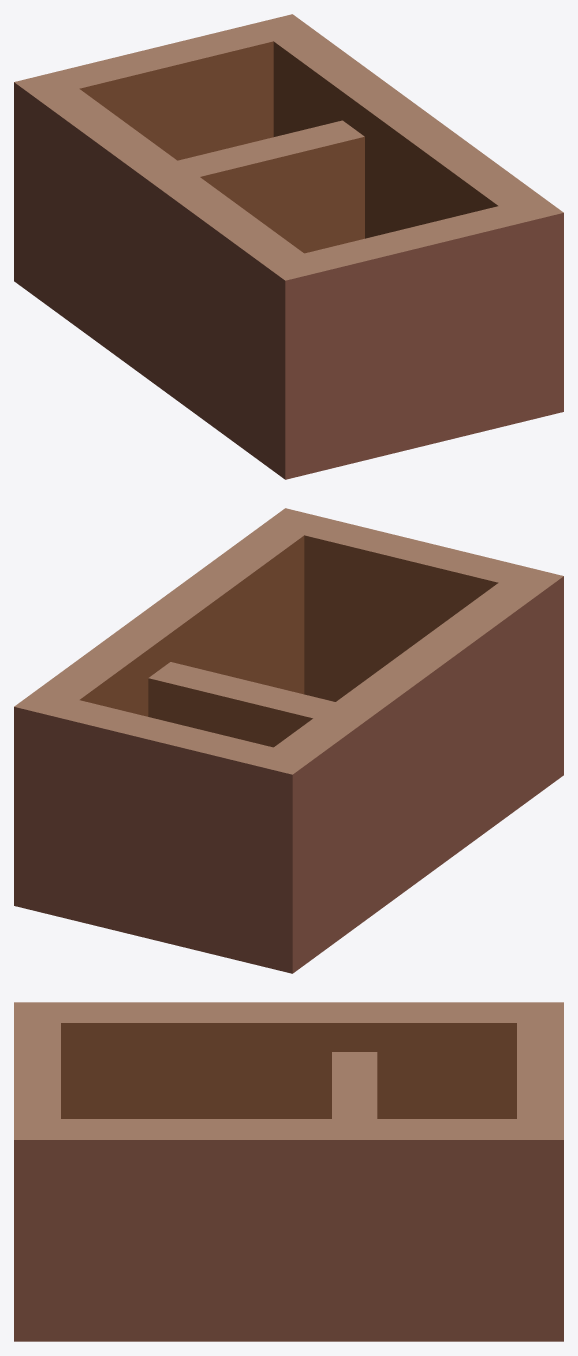
Rendered from TB_Prop_Toolbox_B.FBX.
3 renders of one model, top to bottom at view 1: azimuth 30°, elevation 25°; view 2: azimuth 150°, elevation 25°; view 3: azimuth 270°, elevation 25°, orthographic.
Visible parts, largest first — view 1: TB_Prop_Toolbox_B; view 2: TB_Prop_Toolbox_B; view 3: TB_Prop_Toolbox_B.
Boxes of the visible parts, x1=… form: TB_Prop_Toolbox_B: x1=14, y1=14, x2=563, y2=479; TB_Prop_Toolbox_B: x1=14, y1=508, x2=563, y2=973; TB_Prop_Toolbox_B: x1=14, y1=1002, x2=563, y2=1341.
Bounding box in the file's own units: 0.5325 × 0.3637 × 0.8984.
